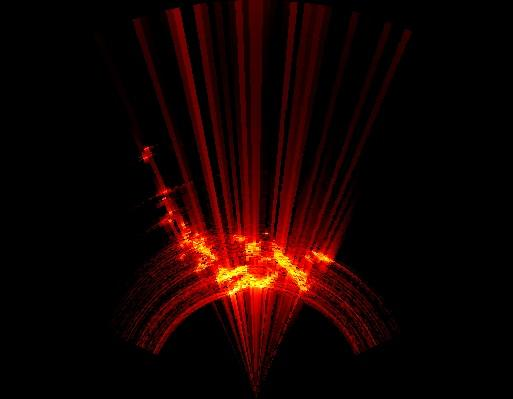shipwreck: (160, 187, 330, 294)
